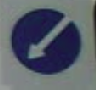obezd: (11, 7, 82, 75)
